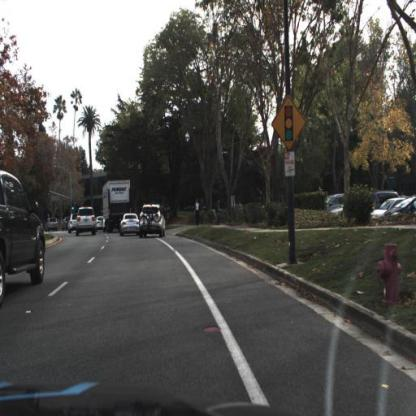car: (1, 166, 48, 305), (372, 197, 416, 223), (137, 203, 166, 239), (75, 205, 97, 241), (117, 211, 142, 238), (76, 206, 98, 234), (68, 213, 80, 235)
pedestrian: (214, 198, 225, 227), (194, 197, 203, 226), (195, 197, 201, 226)
truck: (101, 179, 133, 234)
